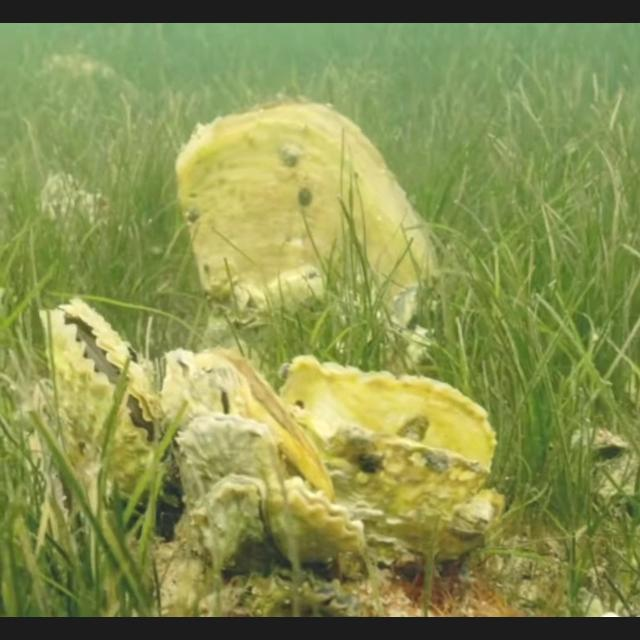Oyster-Closed: (169, 97, 437, 330), (154, 342, 326, 496), (169, 406, 275, 504)
Oyster-Open: (274, 350, 498, 562), (34, 292, 164, 506), (172, 468, 362, 578)
